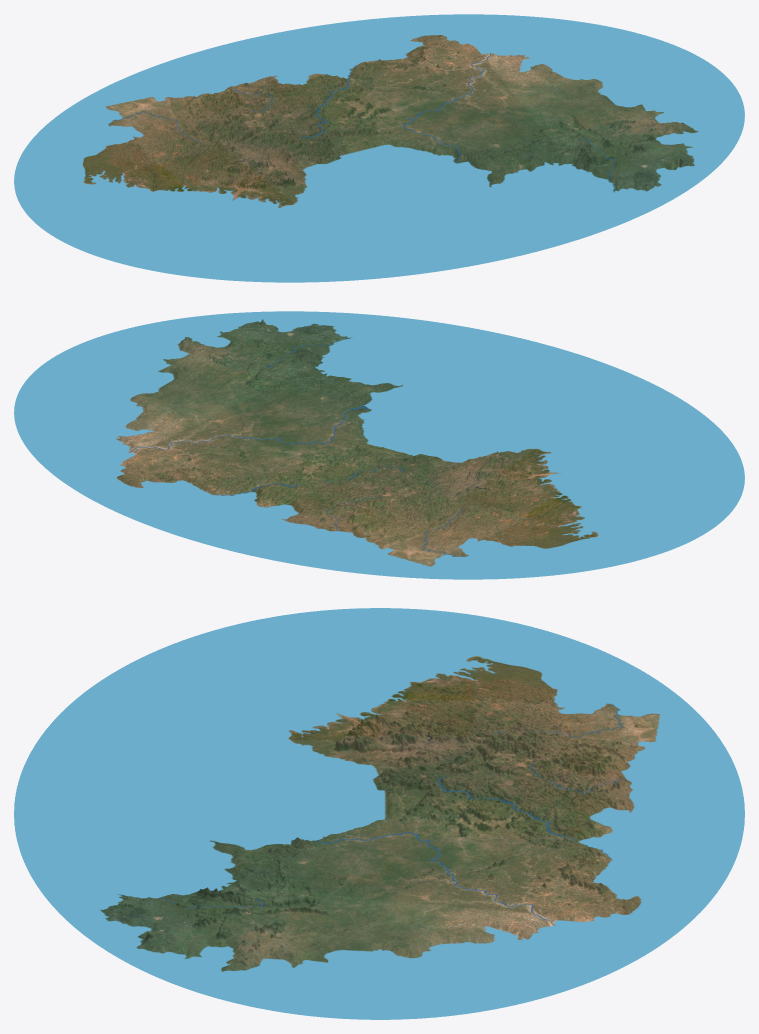
File: GIN-previa-terrain.glb
3 views of the same model, one above another, from view 1: azimuth 30°, elevation 25°; view 2: azimuth 150°, elevation 25°; view 3: azimuth 270°, elevation 25° (orthographic). The views are drawn at different scales.
Visible parts, largest first — view 1: Guiné; view 2: Guiné; view 3: Guiné.
Boxes of the visible parts, <box> form: Guiné: <box>14,14,744,282</box>; Guiné: <box>14,311,744,579</box>; Guiné: <box>14,608,744,1019</box>.
Bounding box in the file's own units: 2.29 × 0.0353 × 1.72.
1 material, 1 textured.
